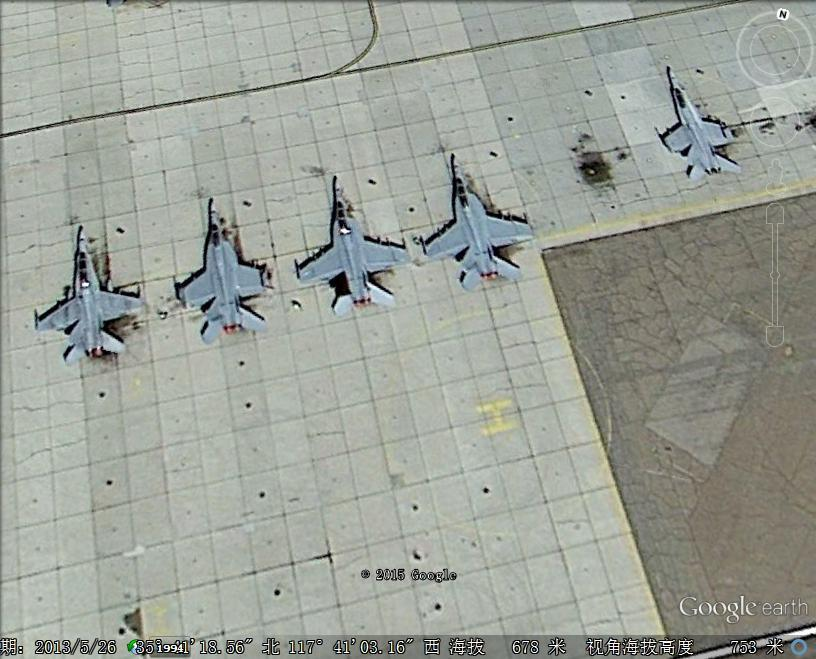F/A-18: (35, 223, 143, 365), (300, 178, 411, 316), (426, 154, 535, 289), (175, 200, 277, 344), (656, 62, 745, 187)
